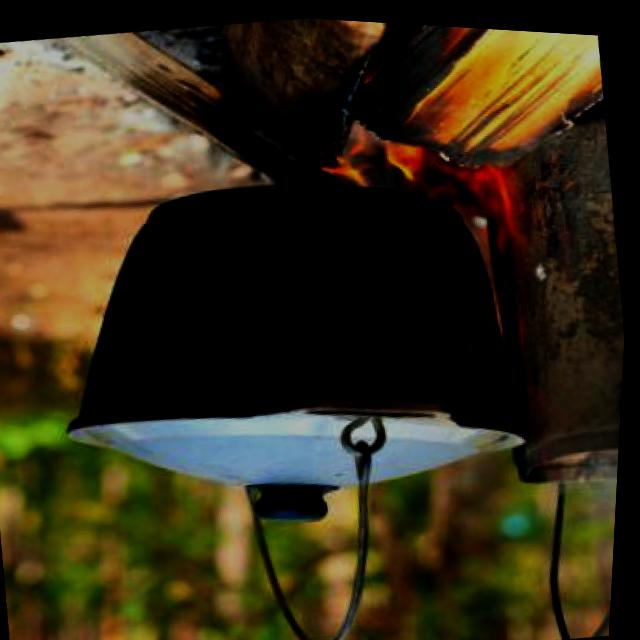Fire: (320, 105, 553, 267)
